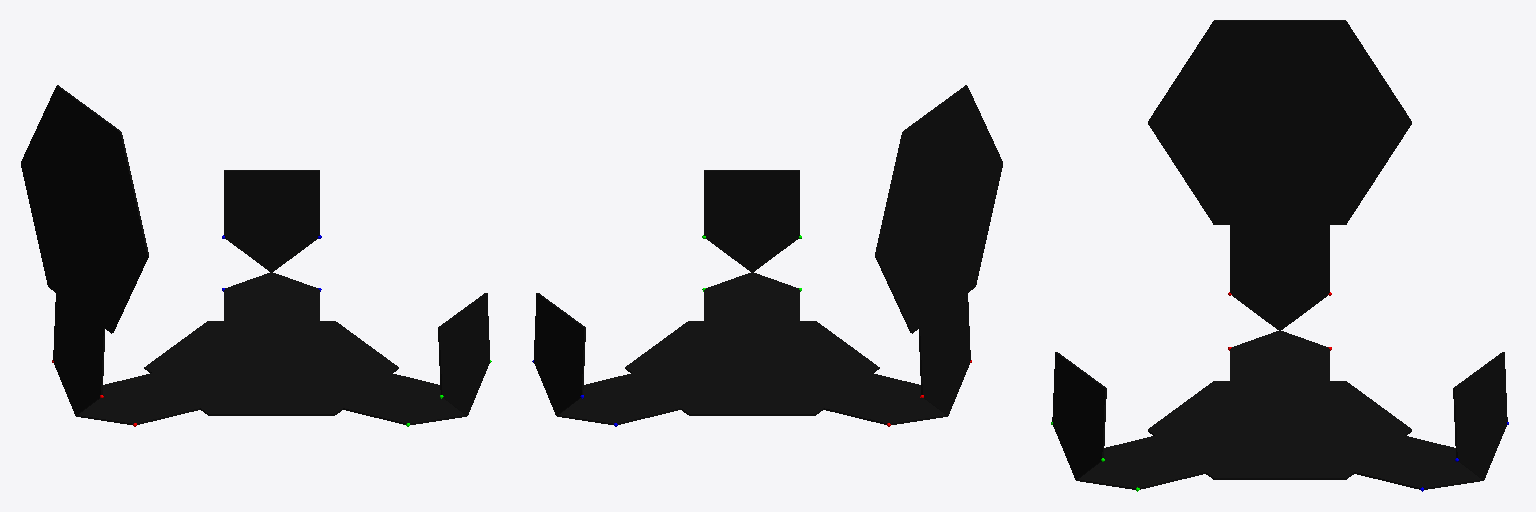
The robot description file, URDF, robot "Robogami":
<?xml version="1.0" ?>
<!-- Generated from config file: ../etc/robogami_config_baseline.yaml
	hexagon_side=0.065
	hexagon_thickness=0.001
	leg_length=0.059
	leg_width=0.049
	leg_angle=40
	leg_thickness=0.001
	density=1.25
	motor_mass=65
	motor_torque_limit=1
	motor_speed_limit=1
	unactuated_joint_torque_limit=1
	unactuated_joint_speed_limit=1
-->
<robot name="Robogami" xmlns:xacro="http://www.ros.org/wiki/xacro">

	<!-- Materials -->
	<material name="Gray">
		<color rgba="0.1 0.1 0.1 0.7"/>
	</material>
	<material name="Red">
		<color rgba="1 0 0 1.0"/>
	</material>
	<material name="Green">
		<color rgba="0 1 0 1.0"/>
	</material>
	<material name="Blue">
		<color rgba="0 0 1 1.0"/>
	</material>

	<!-- Base hexagon link -->
	<link name="base">
		<inertial>
			<mass value="0.20872108954456053" />
			<origin rpy="0 0 0" xyz="2.077800906178261e-18 0.0 0.0"/>
			<inertia ixx="0.0003210316859347479" ixy="1.3552527156068805e-20" ixz="0.0" iyy="0.000321031685860733" iyz="0.0" izz="0.0006420610849470359"/>
		</inertial>
		<visual>
			<origin rpy="0 0 0" xyz="0 0 0"/>
			<geometry>
				<mesh filename="package://robogami_description/meshes/robogami_base.stl"/>
			</geometry>
			<material name="Gray"/>
		</visual>
	</link>

	<!-- Legs lower links -->
	<link name="leg1">
		<inertial>
			<mass value="0.0029841632454008504" />
			<origin rpy="0 0 0" xyz="-0.02472195107409422 0.0 0.0"/>
			<inertia ixx="5.343450874237569e-07" ixy="-0.0" ixz="-0.0" iyy="6.427106404734606e-07" iyz="-0.0" izz="1.176558367344229e-06"/>
		</inertial>
		<visual>
			<origin rpy="0 0 0" xyz="0 0 0"/>
			<geometry>
				<mesh filename="package://robogami_description/meshes/robogami_leg.stl"/>
			</geometry>
			<material name="Gray"/>
		</visual>
	</link>

	<link name="leg2">
		<inertial>
			<mass value="0.0029841632454008504" />
			<origin rpy="0 0 0" xyz="-0.02472195107409422 0.0 0.0"/>
			<inertia ixx="5.343450874237569e-07" ixy="-0.0" ixz="-0.0" iyy="6.427106404734606e-07" iyz="-0.0" izz="1.176558367344229e-06"/>
		</inertial>
		<visual>
			<origin rpy="0 0 0" xyz="0 0 0"/>
			<geometry>
				<mesh filename="package://robogami_description/meshes/robogami_leg.stl"/>
			</geometry>
			<material name="Gray"/>
		</visual>
	</link>

	<link name="leg3">
		<inertial>
			<mass value="0.0029841632454008504" />
			<origin rpy="0 0 0" xyz="-0.02472195107409422 0.0 0.0"/>
			<inertia ixx="5.343450874237569e-07" ixy="-0.0" ixz="-0.0" iyy="6.427106404734606e-07" iyz="-0.0" izz="1.176558367344229e-06"/>
		</inertial>
		<visual>
			<origin rpy="0 0 0" xyz="0 0 0"/>
			<geometry>
				<mesh filename="package://robogami_description/meshes/robogami_leg.stl"/>
			</geometry>
			<material name="Gray"/>
		</visual>
	</link>

	<!-- Joints connecting leg lower links to the hexagon base link -->
	<joint name="l1" type="revolute">
		<parent link="base"/>
		<child link="leg1"/>
		<axis xyz="0 1 0"/>
		<limit effort="1" lower="0" upper="1.4" velocity="1"/>
		<origin rpy="0 0 0" xyz="-0.05629165124598851 0 0"/>
	</joint>

	<joint name="l2" type="revolute">
		<parent link="base"/>
		<child link="leg2"/>
		<axis xyz="0 1 0"/>
		<limit effort="1" lower="0" upper="1.4" velocity="1"/>
		<origin rpy="0 0 2.0943951023931953" xyz="0.028145825622994256 -0.04875 0"/>
	</joint>

	<joint name="l3" type="revolute">
		<parent link="base"/>
		<child link="leg3"/>
		<axis xyz="0 1 0"/>
		<limit effort="1" lower="0" upper="1.4" velocity="1"/>
		<origin rpy="0 0 -2.0943951023931953" xyz="0.028145825622994256 0.04875 0"/>
	</joint>

	<!-- Legs upper links -->
	<link name="leg1top">
		<inertial>
			<mass value="0.0029841632454008504" />
			<origin rpy="0 0 0" xyz="0.034278048925905774 0.0 0.0"/>
			<inertia ixx="5.343450874237569e-07" ixy="-0.0" ixz="-0.0" iyy="6.427106404734606e-07" iyz="-0.0" izz="1.176558367344229e-06"/>
		</inertial>
		<visual>
			<origin rpy="0 0 0" xyz="0.059 0 0"/>
			<geometry>
				<mesh filename="package://robogami_description/meshes/robogami_leg.stl"/>
			</geometry>
			<material name="Gray"/>
		</visual>
	</link>

	<link name="leg2top">
		<inertial>
			<mass value="0.0029841632454008504" />
			<origin rpy="0 0 0" xyz="0.034278048925905774 0.0 0.0"/>
			<inertia ixx="5.343450874237569e-07" ixy="-0.0" ixz="-0.0" iyy="6.427106404734606e-07" iyz="-0.0" izz="1.176558367344229e-06"/>
		</inertial>
		<visual>
			<origin rpy="0 0 0" xyz="0.059 0 0"/>
			<geometry>
				<mesh filename="package://robogami_description/meshes/robogami_leg.stl"/>
			</geometry>
			<material name="Gray"/>
		</visual>
	</link>

	<link name="leg3top">
		<inertial>
			<mass value="0.0029841632454008504" />
			<origin rpy="0 0 0" xyz="0.034278048925905774 0.0 0.0"/>
			<inertia ixx="5.343450874237569e-07" ixy="-0.0" ixz="-0.0" iyy="6.427106404734606e-07" iyz="-0.0" izz="1.176558367344229e-06"/>
		</inertial>
		<visual>
			<origin rpy="0 0 0" xyz="0.059 0 0"/>
			<geometry>
				<mesh filename="package://robogami_description/meshes/robogami_leg.stl"/>
			</geometry>
			<material name="Gray"/>
		</visual>
	</link>

	<!-- Spherical joints connecting leg lower and upper links -->
	<link name="l1RotX"/>

	<link name="l1RotY"/>

	<joint name="x_l1rotx" type="revolute">
		<parent link="leg1"/>
		<child link="l1RotX"/>
		<axis xyz="1 0 0"/>
		<limit effort="1" lower="-1.56" upper="1.56" velocity="1"/>
		<origin rpy="0 3.141592653589793 0" xyz="-0.059 0 0"/>
	</joint>

	<joint name="x_l1roty" type="revolute">
		<parent link="l1RotX"/>
		<child link="l1RotY"/>
		<axis xyz="0 1 0"/>
		<limit effort="1" lower="0.1" upper="3.13" velocity="1"/>
		<origin rpy="0 0 0" xyz="0 0 0"/>
	</joint>

	<joint name="x_l1top" type="revolute">
		<parent link="l1RotY"/>
		<child link="leg1top"/>
		<axis xyz="1 0 0"/>
		<limit effort="1" lower="-1.56" upper="1.56" velocity="1"/>
		<origin rpy="0 0 0" xyz="0 0 0"/>
	</joint>

	<link name="l2RotX"/>

	<link name="l2RotY"/>

	<joint name="x_l2rotx" type="revolute">
		<parent link="leg2"/>
		<child link="l2RotX"/>
		<axis xyz="1 0 0"/>
		<limit effort="1" lower="-1.56" upper="1.56" velocity="1"/>
		<origin rpy="0 3.141592653589793 0" xyz="-0.059 0 0"/>
	</joint>

	<joint name="x_l2roty" type="revolute">
		<parent link="l2RotX"/>
		<child link="l2RotY"/>
		<axis xyz="0 1 0"/>
		<limit effort="1" lower="0.1" upper="3.13" velocity="1"/>
		<origin rpy="0 0 0" xyz="0 0 0"/>
	</joint>

	<joint name="x_l2top" type="revolute">
		<parent link="l2RotY"/>
		<child link="leg2top"/>
		<axis xyz="1 0 0"/>
		<limit effort="1" lower="-1.56" upper="1.56" velocity="1"/>
		<origin rpy="0 0 0" xyz="0 0 0"/>
	</joint>

	<link name="l3RotX"/>

	<link name="l3RotY"/>

	<joint name="x_l3rotx" type="revolute">
		<parent link="leg3"/>
		<child link="l3RotX"/>
		<axis xyz="1 0 0"/>
		<limit effort="1" lower="-1.56" upper="1.56" velocity="1"/>
		<origin rpy="0 3.141592653589793 0" xyz="-0.059 0 0"/>
	</joint>

	<joint name="x_l3roty" type="revolute">
		<parent link="l3RotX"/>
		<child link="l3RotY"/>
		<axis xyz="0 1 0"/>
		<limit effort="1" lower="0.1" upper="3.13" velocity="1"/>
		<origin rpy="0 0 0" xyz="0 0 0"/>
	</joint>

	<joint name="x_l3top" type="revolute">
		<parent link="l3RotY"/>
		<child link="leg3top"/>
		<axis xyz="1 0 0"/>
		<limit effort="1" lower="-1.56" upper="1.56" velocity="1"/>
		<origin rpy="0 0 0" xyz="0 0 0"/>
	</joint>

	<!-- Top hexagon link -->
	<link name="top">
		<inertial>
			<mass value="0.013721089544560527" />
			<origin rpy="0 0 0" xyz="-0.05629165124598851 0.0 0.0"/>
			<inertia ixx="1.2078560934747871e-05" ixy="-0.0" ixz="-0.0" iyy="1.2078560860733004e-05" iyz="-0.0" izz="2.415483494703589e-05"/>
		</inertial>
		<visual>
			<origin rpy="0 0 0" xyz="-0.05629165124598851 0 0"/>
			<geometry>
				<mesh filename="package://robogami_description/meshes/robogami_base.stl"/>
			</geometry>
			<material name="Gray"/>
		</visual>
	</link>

	<!-- Leg1 joint to top hexagon link -->
	<joint name="l1topBase" type="revolute">
		<parent link="leg1top"/>
		<child link="top"/>
		<axis xyz="0 1 0"/>
		<limit effort="1" lower="0" upper="1.56" velocity="1"/>
		<origin rpy="0 3.141592653589793 0" xyz="0.059 0 0"/>
	</joint>

	<!-- Auxiliary virtual links and associalted joints for defining contact surfaces and closed chains -->
	<link name="leg2TopMove"/>

	<link name="leg3TopMove"/>

	<joint name="l2TopMove" type="revolute">
		<parent link="leg2top"/>
		<child link="leg2TopMove"/>
		<axis xyz="0 1 0"/>
		<limit effort="1" lower="-1.56" upper="1.56" velocity="1"/>
		<origin rpy="0 -1.5707963267948966 0" xyz="0.059 0 0"/>
	</joint>

	<joint name="l3TopMove" type="revolute">
		<parent link="leg3top"/>
		<child link="leg3TopMove"/>
		<axis xyz="0 1 0"/>
		<limit effort="1" lower="-1.56" upper="1.56" velocity="1"/>
		<origin rpy="0 -1.5707963267948966 0" xyz="0.059 0 0"/>
	</joint>

	<link name="topCenter"/>

	<joint name="topCenter" type="fixed">
		<parent link="top"/>
		<child link="topCenter"/>
		<origin rpy="0 3.141592653589793 0" xyz="-0.05629165124598851 0 0"/>
	</joint>

	<link name="endEffector"/>

	<joint name="ee" type="fixed">
		<parent link="topCenter"/>
		<child link="endEffector"/>
		<origin rpy="3.141592653589793 -1.5707963267948966 0" xyz="0 0 0"/>
	</joint>

	<link name="topleg2"/>

	<joint name="topleg2" type="fixed">
		<parent link="top"/>
		<child link="topleg2"/>
		<origin rpy="0 1.5707963267948966 -2.0943951023931953" xyz="-0.08443747686898277 -0.04875 0"/>
	</joint>

	<link name="topleg3"/>

	<joint name="topleg3" type="fixed">
		<parent link="top"/>
		<child link="topleg3"/>
		<origin rpy="0 1.5707963267948966 2.0943951023931953" xyz="-0.08443747686898277 0.04875 0"/>
	</joint>

	<!-- Corner collision shapes -->
	<link name="leg1lowerLeftConner">
		<visual>
			<geometry>
				<sphere radius="0.001"/>
			</geometry>

			<material name="Red"/>
		</visual>
		<collision>
			<geometry>
				<sphere radius="0.001"/>
			</geometry>
		</collision>
	</link>

	<joint name="leg1lowerLeftConner_joint" type="fixed">
		<parent link="leg1"/>
		<child link="leg1lowerLeftConner"/>
		<origin rpy="0 0 0" xyz="-0.038442059036156634 -0.0245 0"/>
	</joint>

	<link name="leg1lowerRightConner">
		<visual>
			<geometry>
				<sphere radius="0.001"/>
			</geometry>

			<material name="Red"/>
		</visual>
		<collision>
			<geometry>
				<sphere radius="0.001"/>
			</geometry>
		</collision>
	</link>

	<joint name="leg1lowerRightConner_joint" type="fixed">
		<parent link="leg1"/>
		<child link="leg1lowerRightConner"/>
		<origin rpy="0 0 0" xyz="-0.038442059036156634 0.0245 0"/>
	</joint>

	<link name="leg1topLeftConner">
		<visual>
			<geometry>
				<sphere radius="0.001"/>
			</geometry>

			<material name="Red"/>
		</visual>
		<collision>
			<geometry>
				<sphere radius="0.001"/>
			</geometry>
		</collision>
	</link>

	<joint name="leg1topLeftConner_joint" type="fixed">
		<parent link="leg1top"/>
		<child link="leg1topLeftConner"/>
		<origin rpy="0 0 0" xyz="0.02055794096384336 -0.0245 0"/>
	</joint>

	<link name="leg1topRightConner">
		<visual>
			<geometry>
				<sphere radius="0.001"/>
			</geometry>

			<material name="Red"/>
		</visual>
		<collision>
			<geometry>
				<sphere radius="0.001"/>
			</geometry>
		</collision>
	</link>

	<joint name="leg1topRightConner_joint" type="fixed">
		<parent link="leg1top"/>
		<child link="leg1topRightConner"/>
		<origin rpy="0 0 0" xyz="0.02055794096384336 0.0245 0"/>
	</joint>

	<link name="leg2lowerLeftConner">
		<visual>
			<geometry>
				<sphere radius="0.001"/>
			</geometry>

			<material name="Green"/>
		</visual>
		<collision>
			<geometry>
				<sphere radius="0.001"/>
			</geometry>
		</collision>
	</link>

	<joint name="leg2lowerLeftConner_joint" type="fixed">
		<parent link="leg2"/>
		<child link="leg2lowerLeftConner"/>
		<origin rpy="0 0 0" xyz="-0.038442059036156634 -0.0245 0"/>
	</joint>

	<link name="leg2lowerRightConner">
		<visual>
			<geometry>
				<sphere radius="0.001"/>
			</geometry>

			<material name="Green"/>
		</visual>
		<collision>
			<geometry>
				<sphere radius="0.001"/>
			</geometry>
		</collision>
	</link>

	<joint name="leg2lowerRightConner_joint" type="fixed">
		<parent link="leg2"/>
		<child link="leg2lowerRightConner"/>
		<origin rpy="0 0 0" xyz="-0.038442059036156634 0.0245 0"/>
	</joint>

	<link name="leg2topLeftConner">
		<visual>
			<geometry>
				<sphere radius="0.001"/>
			</geometry>

			<material name="Green"/>
		</visual>
		<collision>
			<geometry>
				<sphere radius="0.001"/>
			</geometry>
		</collision>
	</link>

	<joint name="leg2topLeftConner_joint" type="fixed">
		<parent link="leg2top"/>
		<child link="leg2topLeftConner"/>
		<origin rpy="0 0 0" xyz="0.02055794096384336 -0.0245 0"/>
	</joint>

	<link name="leg2topRightConner">
		<visual>
			<geometry>
				<sphere radius="0.001"/>
			</geometry>

			<material name="Green"/>
		</visual>
		<collision>
			<geometry>
				<sphere radius="0.001"/>
			</geometry>
		</collision>
	</link>

	<joint name="leg2topRightConner_joint" type="fixed">
		<parent link="leg2top"/>
		<child link="leg2topRightConner"/>
		<origin rpy="0 0 0" xyz="0.02055794096384336 0.0245 0"/>
	</joint>

	<link name="leg3lowerLeftConner">
		<visual>
			<geometry>
				<sphere radius="0.001"/>
			</geometry>

			<material name="Blue"/>
		</visual>
		<collision>
			<geometry>
				<sphere radius="0.001"/>
			</geometry>
		</collision>
	</link>

	<joint name="leg3lowerLeftConner_joint" type="fixed">
		<parent link="leg3"/>
		<child link="leg3lowerLeftConner"/>
		<origin rpy="0 0 0" xyz="-0.038442059036156634 -0.0245 0"/>
	</joint>

	<link name="leg3lowerRightConner">
		<visual>
			<geometry>
				<sphere radius="0.001"/>
			</geometry>

			<material name="Blue"/>
		</visual>
		<collision>
			<geometry>
				<sphere radius="0.001"/>
			</geometry>
		</collision>
	</link>

	<joint name="leg3lowerRightConner_joint" type="fixed">
		<parent link="leg3"/>
		<child link="leg3lowerRightConner"/>
		<origin rpy="0 0 0" xyz="-0.038442059036156634 0.0245 0"/>
	</joint>

	<link name="leg3topLeftConner">
		<visual>
			<geometry>
				<sphere radius="0.001"/>
			</geometry>

			<material name="Blue"/>
		</visual>
		<collision>
			<geometry>
				<sphere radius="0.001"/>
			</geometry>
		</collision>
	</link>

	<joint name="leg3topLeftConner_joint" type="fixed">
		<parent link="leg3top"/>
		<child link="leg3topLeftConner"/>
		<origin rpy="0 0 0" xyz="0.02055794096384336 -0.0245 0"/>
	</joint>

	<link name="leg3topRightConner">
		<visual>
			<geometry>
				<sphere radius="0.001"/>
			</geometry>

			<material name="Blue"/>
		</visual>
		<collision>
			<geometry>
				<sphere radius="0.001"/>
			</geometry>
		</collision>
	</link>

	<joint name="leg3topRightConner_joint" type="fixed">
		<parent link="leg3top"/>
		<child link="leg3topRightConner"/>
		<origin rpy="0 0 0" xyz="0.02055794096384336 0.0245 0"/>
	</joint>


</robot>

--- Render facts (derived) ---
Views: 3 orthographic renders of the robot side by side, from view 1: azimuth 30°, elevation 25°; view 2: azimuth 150°, elevation 25°; view 3: azimuth 270°, elevation 25°.
Model Robogami with 32 links and 31 joints (15 revolute, 16 fixed), rooted at base, posed joints at zero except 3 at the middle of their limits (x_l1roty = 1.61, x_l2roty = 1.61, x_l3roty = 1.61).
Links seen in each view (by area): view 1: top, base, leg3top, leg2top, leg1top, leg3, leg1, leg2; view 2: top, base, leg2top, leg3top, leg1top, leg2, leg1, leg3; view 3: top, base, leg1top, leg2top, leg3top, leg1, leg2, leg3.
Link boxes in pixels (<box>): top: <box>21,85,148,333</box>; base: <box>144,321,398,415</box>; leg3top: <box>224,170,319,271</box>; leg2top: <box>438,293,489,415</box>; leg1top: <box>53,293,104,415</box>; leg3: <box>224,272,319,320</box>; leg1: <box>76,373,199,424</box>; leg2: <box>343,373,466,424</box>; top: <box>875,85,1002,333</box>; base: <box>625,321,879,415</box>; leg2top: <box>704,170,799,271</box>; leg3top: <box>534,293,585,415</box>; leg1top: <box>919,293,970,415</box>; leg2: <box>704,272,799,320</box>; leg1: <box>824,373,947,424</box>; leg3: <box>557,373,680,424</box>; top: <box>1148,20,1411,224</box>; base: <box>1148,381,1411,479</box>; leg1top: <box>1230,225,1329,330</box>; leg2top: <box>1052,352,1106,479</box>; leg3top: <box>1453,352,1507,479</box>; leg1: <box>1230,331,1329,380</box>; leg2: <box>1076,435,1205,489</box>; leg3: <box>1354,435,1483,489</box>.
Bounding box of the posed robot: 0.1952 × 0.2246 × 0.1724 m (x, y, z).
8 mesh visuals loaded from 2 distinct referenced files (2 binary STL).
